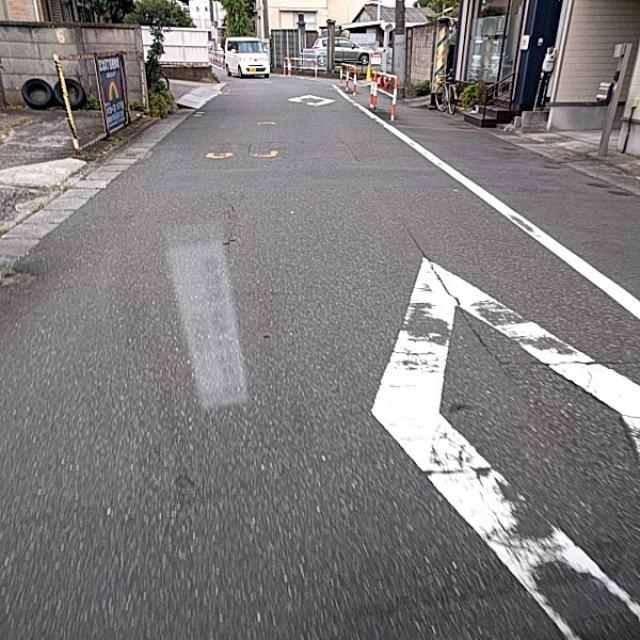pothole: (417, 350, 496, 480)
